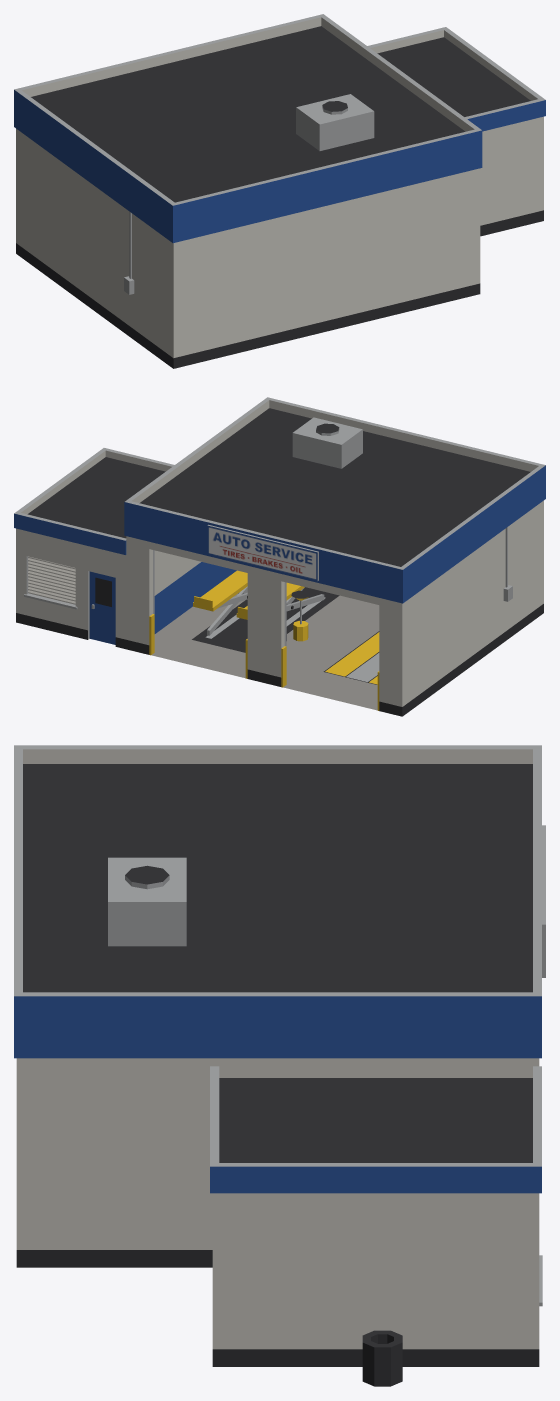
Rendered from service-station.glb.
3 views of the same model, one above another, from view 1: azimuth 30°, elevation 25°; view 2: azimuth 150°, elevation 25°; view 3: azimuth 270°, elevation 25° (orthographic). The views are drawn at different scales.
Visible parts, largest first — view 1: ServiceStation; view 2: ServiceStation; view 3: ServiceStation.
Boxes of the visible parts, x1,y1,x2,y2 form: ServiceStation: (14,14,545,368); ServiceStation: (14,397,545,716); ServiceStation: (14,745,545,1386).
Size of the model in its own units: 13.44 by 5.18 by 8.14.
9 materials, 1 textured.
